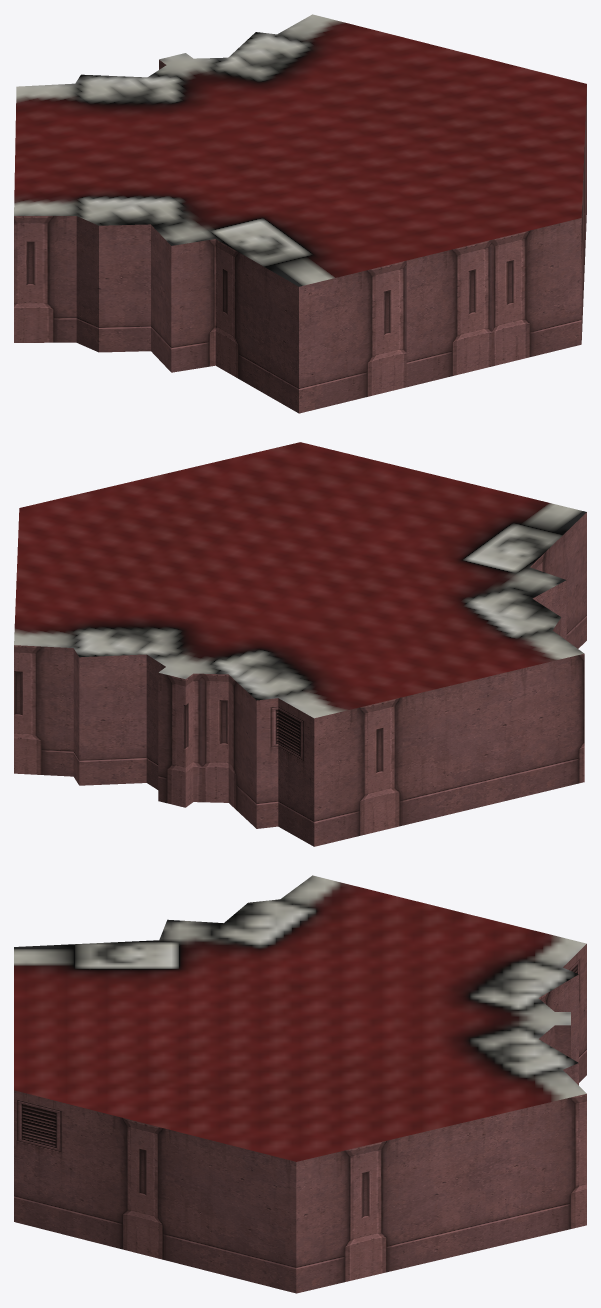
Rendered from hardened_roof46.glb.
3 renders of one model, top to bottom at view 1: azimuth 30°, elevation 25°; view 2: azimuth 150°, elevation 25°; view 3: azimuth 270°, elevation 25°, orthographic. The views are drawn at different scales.
Visible parts, largest first — view 1: buildings/saxarba/hard/hardened_roof46; view 2: buildings/saxarba/hard/hardened_roof46; view 3: buildings/saxarba/hard/hardened_roof46.
Boxes of the visible parts, x1,y1,x2,y2 form: buildings/saxarba/hard/hardened_roof46: (14, 14, 586, 413); buildings/saxarba/hard/hardened_roof46: (14, 442, 586, 846); buildings/saxarba/hard/hardened_roof46: (14, 875, 586, 1293).
Bounding box in the file's own units: 84 × 18 × 71.
